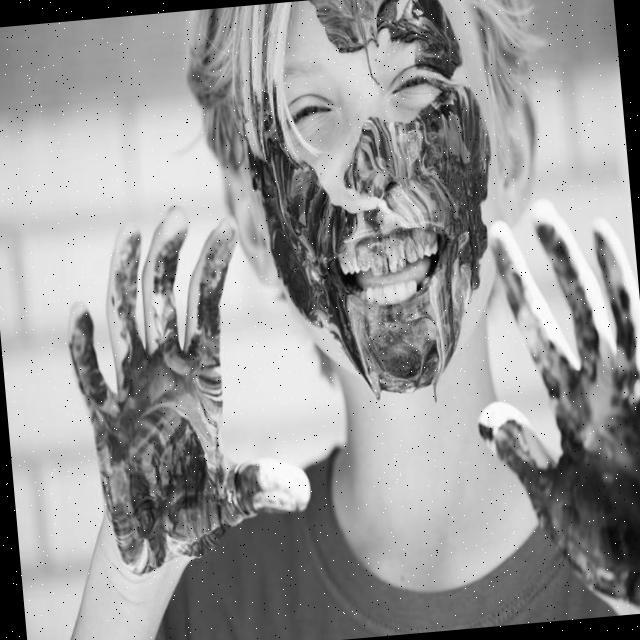Happiness: (213, 0, 532, 419)
